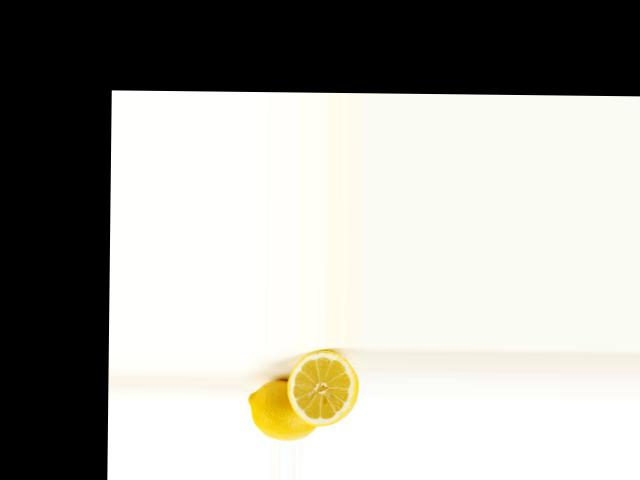lemon: (245, 372, 320, 440)
